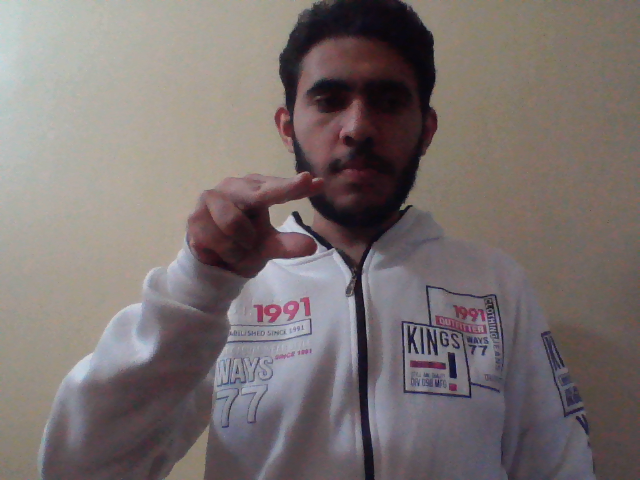no: (183, 168, 329, 281)
